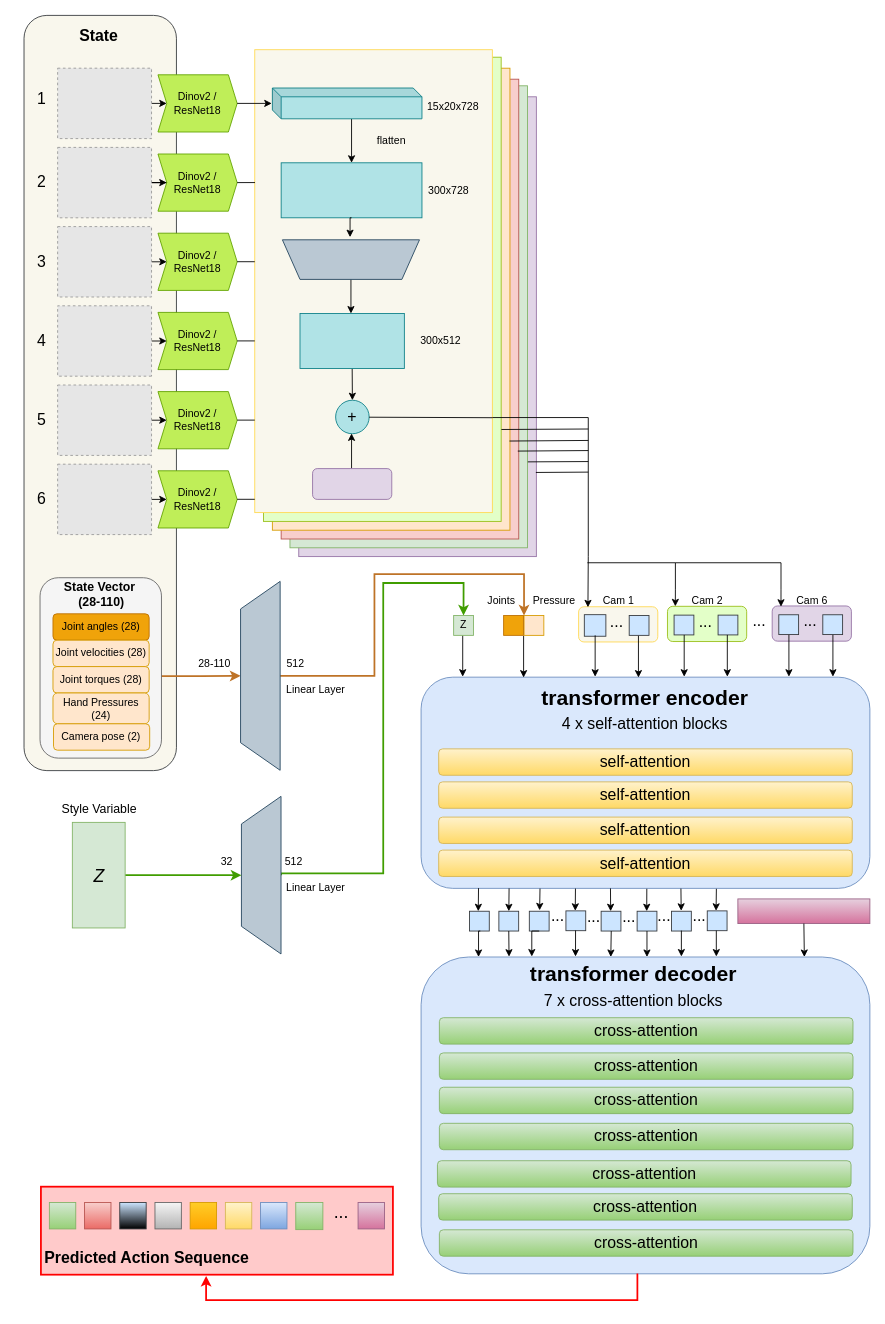
Image size: 885x1324. Some labels were removed from this diagram. Grey dashed boxes stand in for pictures. The shapes that lost their labels are listed below. From the top down, each one's centre as x and y in pixels, then its label:
At (x=346, y=103): "Feature Map".
At (x=350, y=259): "Linar Layer 728 -> 512".
At (x=352, y=483): "Sinusoidal PosEmb".
At (x=803, y=911): "fixed position embeddings".
